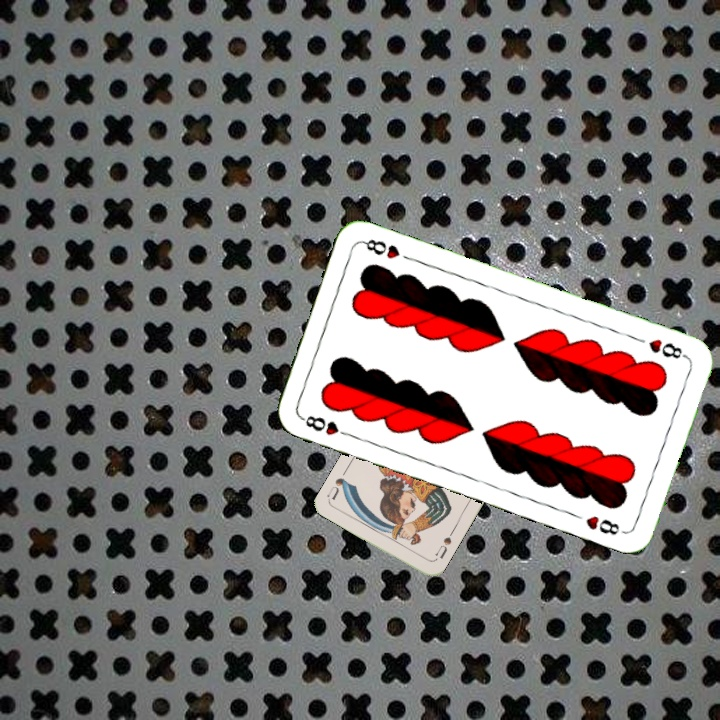H8: (297, 411, 355, 440), (644, 335, 690, 362)
SU: (431, 532, 454, 561)
